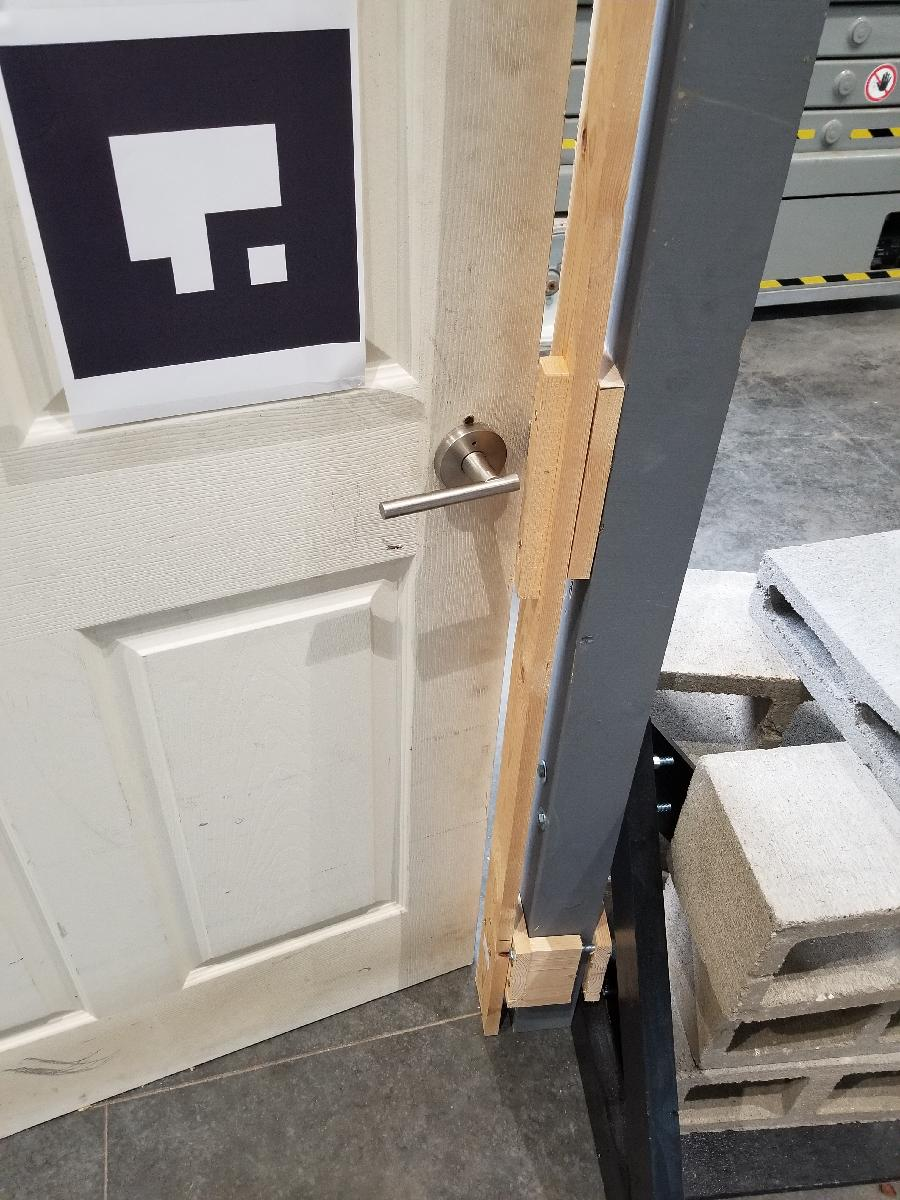doorHandle: (372, 414, 533, 538)
